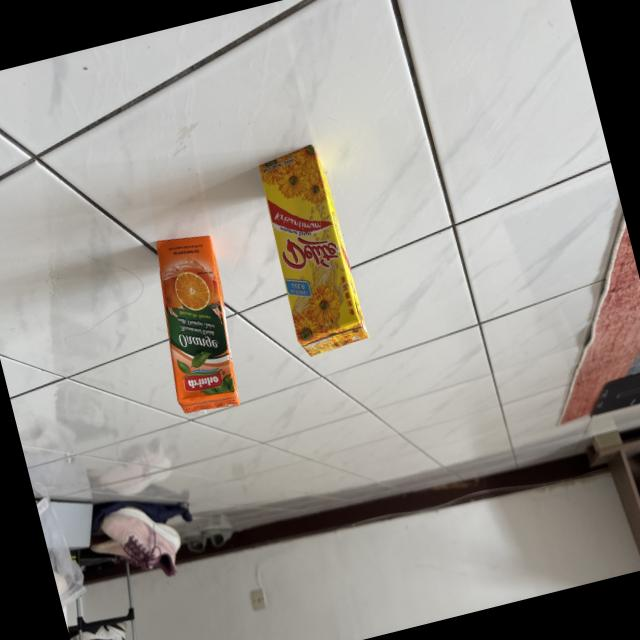drink_carton: (243, 127, 380, 376), (128, 218, 261, 430)
